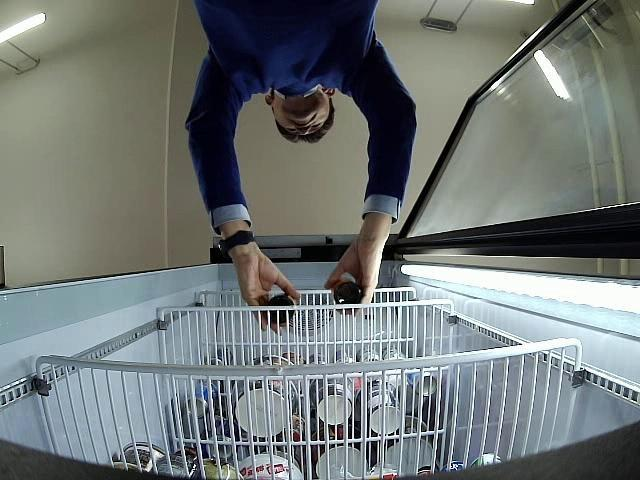17_vita500: (264, 292, 296, 324), (332, 275, 362, 308)
